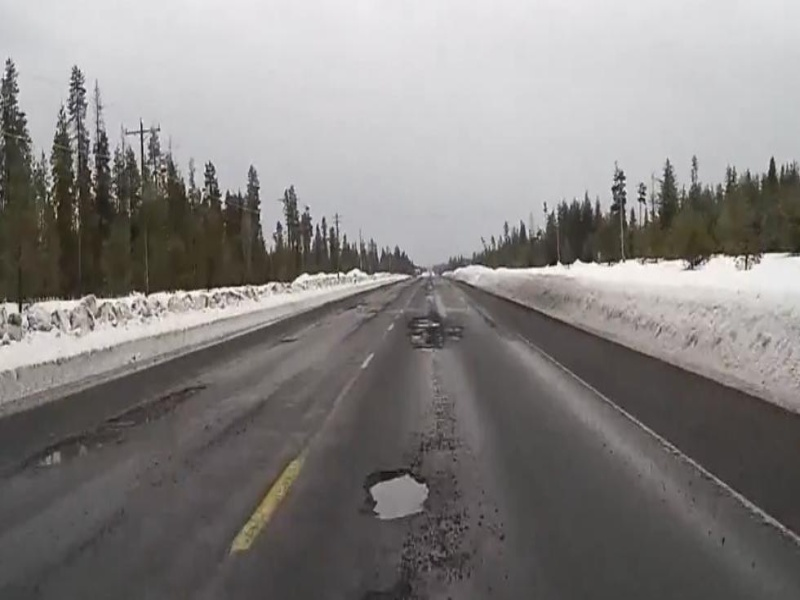pothole: (109, 383, 207, 433), (356, 463, 433, 521), (25, 433, 100, 472), (407, 313, 443, 330), (408, 333, 423, 342)
